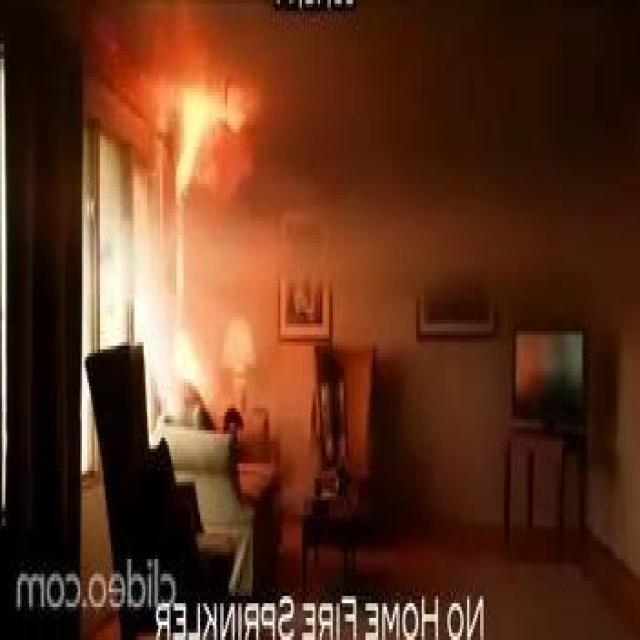smoke: (175, 84, 252, 202), (176, 326, 207, 380)
